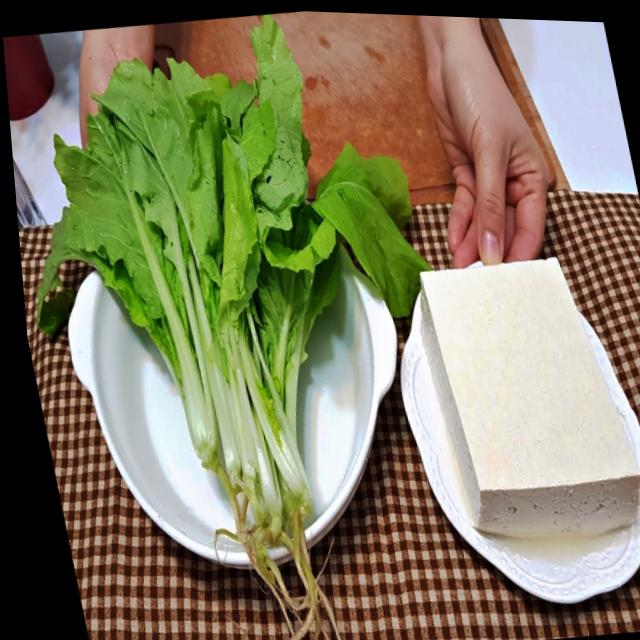chinese_cabbage: (3, 34, 447, 576)
